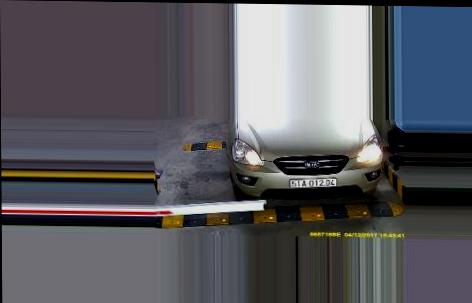License_Plate: (289, 177, 339, 190)
